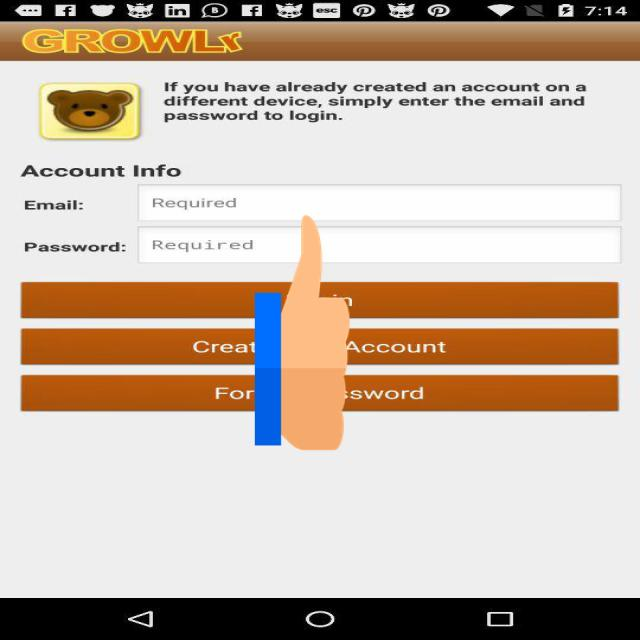privacy zuckering: (254, 209, 350, 456)
